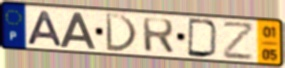A: (59, 11, 98, 51), (25, 9, 65, 48)
D: (186, 17, 221, 60), (104, 12, 139, 54)
R: (141, 17, 176, 56)
Z: (222, 22, 256, 62)
